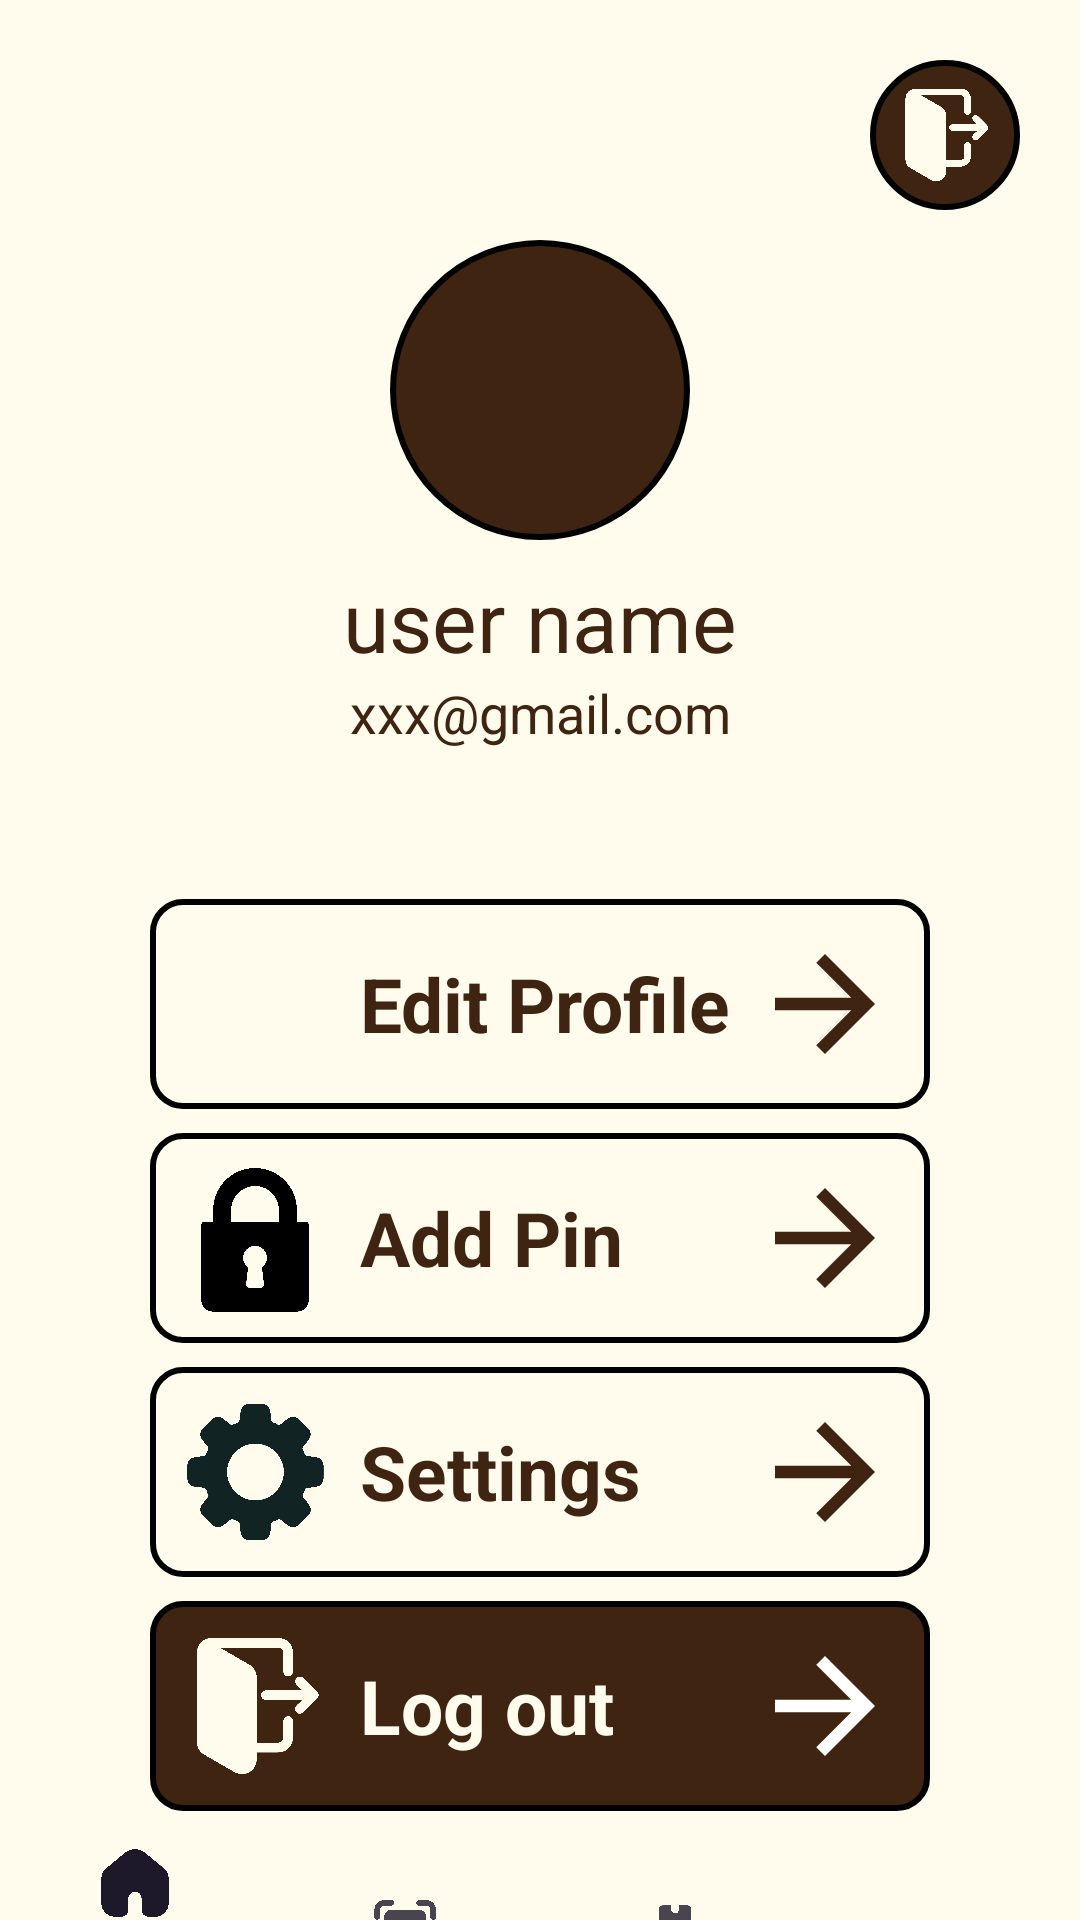

Where icons sit on this 1080w x 1920h app screen, as (x1, y1, x2, y2):
exit: (870, 60, 1020, 210), (197, 1638, 319, 1774)
lock: (201, 1168, 309, 1312)
